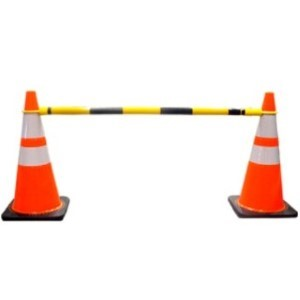traffic cone: (228, 92, 299, 219), (1, 91, 70, 221)
